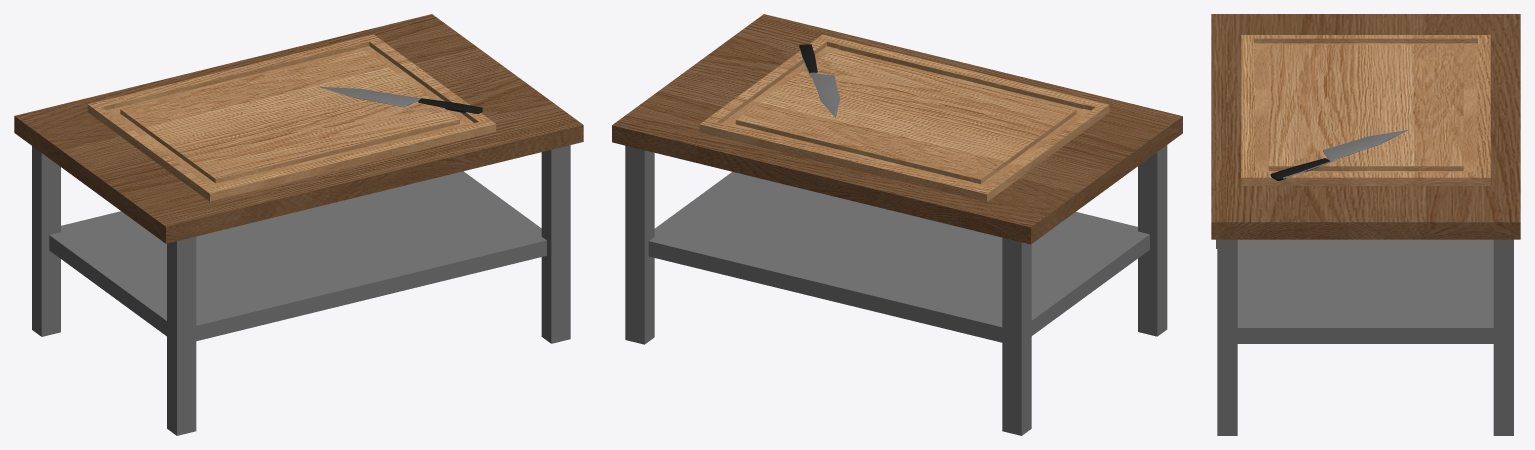
The model's file is CuttingBoard.fbx.
3 renders of one model, left to right at view 1: azimuth 30°, elevation 25°; view 2: azimuth 150°, elevation 25°; view 3: azimuth 270°, elevation 25°, orthographic. The views are drawn at different scales.
Parts seen in each view (by area): view 1: Cube.069, Cube.051, Cube.070, Cube.068, Cube.065, Cube.067, Cube.339; view 2: Cube.069, Cube.051, Cube.070, Cube.067, Cube.066, Cube.068, Cube.339; view 3: Cube.051, Cube.070, Cube.069, Cube.065, Cube.066, Cube.339, Cube.340.
Boxes of the visible parts, x1,y1,x2,y2 form: Cube.069: (49, 171, 546, 341); Cube.051: (87, 34, 495, 201); Cube.070: (14, 14, 583, 243); Cube.068: (167, 236, 196, 435); Cube.065: (541, 145, 570, 343); Cube.067: (32, 146, 60, 336); Cube.339: (318, 86, 420, 107); Cube.069: (648, 172, 1149, 342); Cube.051: (699, 34, 1109, 202); Cube.070: (612, 14, 1182, 244); Cube.067: (1002, 237, 1031, 435); Cube.066: (625, 145, 654, 344); Cube.068: (1138, 145, 1167, 336); Cube.339: (799, 48, 839, 117); Cube.051: (1241, 35, 1490, 185); Cube.070: (1211, 14, 1520, 239); Cube.069: (1237, 239, 1493, 343); Cube.065: (1217, 239, 1237, 435); Cube.066: (1493, 239, 1513, 435); Cube.339: (1283, 129, 1408, 178); Cube.340: (1270, 158, 1330, 181).
Size of the model in its own units: 861 by 441 by 541.
Materials: 7 (3 with a texture image).
